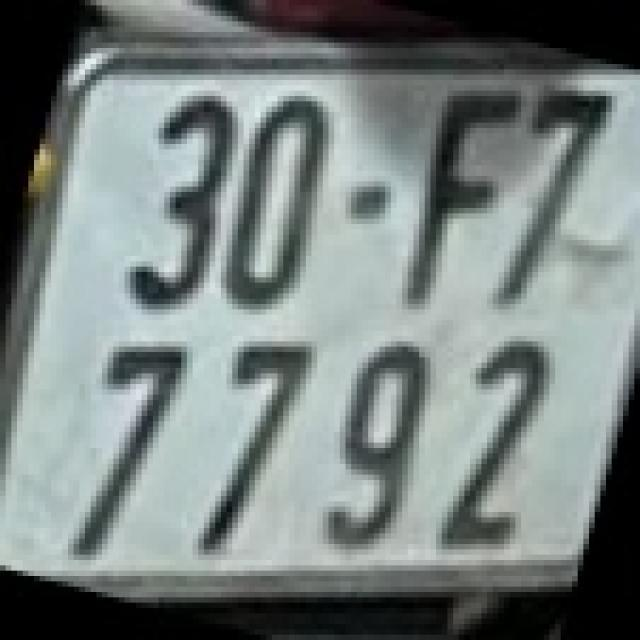0: (220, 96, 328, 310)
2: (442, 336, 550, 550)
3: (125, 96, 232, 310)
7: (68, 341, 187, 560), (192, 341, 312, 555), (504, 85, 612, 304)
9: (328, 342, 431, 550)
F: (402, 86, 516, 310)
